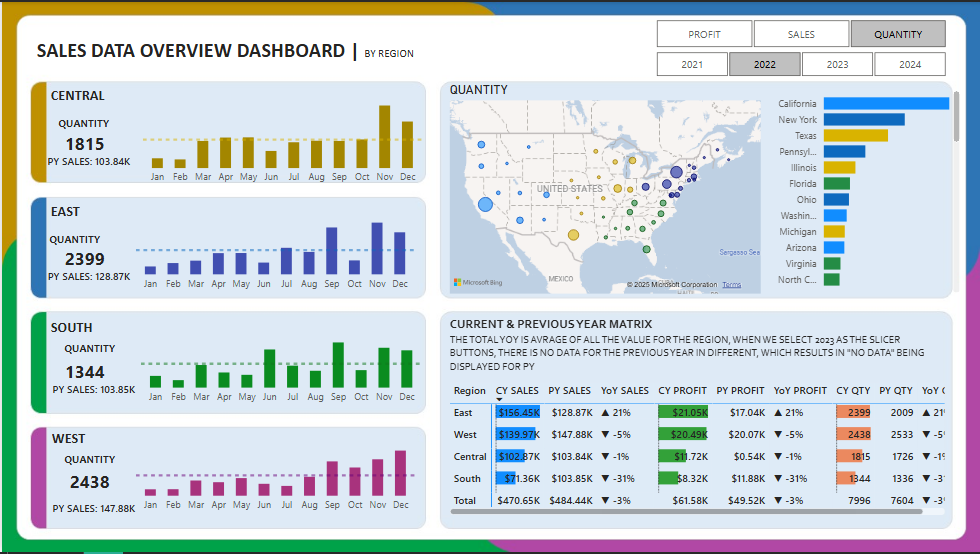

The dashboard page shown, as its layout file describes it:
{"tool":"powerbi","page":{"name":"Page 1","canvas":[1280,720],"ordinal":0},"visuals":[{"type":"slicer","fields":{"Values":["SELECT METRIC.SELECT METRIC"]},"box":[831.5,16.8,428.3,48.7],"z":0},{"type":"card","fields":{"Values":["Sales Data.TOTAL PROFIT"]},"box":[47,162.9,122.6,47],"z":1000},{"type":"textbox","box":[58.8,104.1,95.7,35.3],"z":2000},{"type":"slicer","fields":{"Values":["Calender Table.YEAR"]},"box":[831.5,58.8,428.3,45.4],"z":3000},{"type":"card","fields":{"Values":["Sales Data.PY KPI SALES"]},"box":[47,186.5,134.4,50.4],"z":4000},{"type":"card","fields":{"Values":["Sales Data.DYNAMIC TITLE"]},"box":[58.8,139.4,95.7,40.3],"z":5000},{"type":"card","fields":{"Values":["Sales Data.TOTAL PROFIT"]},"box":[47,312.4,122.6,47],"z":6000},{"type":"card","fields":{"Values":["Sales Data.DYNAMIC TITLE"]},"box":[47,292.3,95.7,40.3],"z":7000},{"type":"card","fields":{"Values":["Sales Data.PY KPI SALES"]},"box":[47,336,134.4,50.4],"z":8000},{"type":"card","fields":{"Values":["Sales Data.TOTAL PROFIT"]},"box":[47,460.3,122.6,47],"z":9000},{"type":"card","fields":{"Values":["Sales Data.DYNAMIC TITLE"]},"box":[67.2,435.1,95.7,40.3],"z":10000},{"type":"card","fields":{"Values":["Sales Data.PY KPI SALES"]},"box":[53.8,483.8,134.4,50.4],"z":11000},{"type":"card","fields":{"Values":["Sales Data.TOTAL PROFIT"]},"box":[53.8,604.7,122.6,47],"z":12000},{"type":"card","fields":{"Values":["Sales Data.DYNAMIC TITLE"]},"box":[67.2,579.5,95.7,40.3],"z":13000},{"type":"card","fields":{"Values":["Sales Data.PY KPI SALES"]},"box":[53.8,640,134.4,50.4],"z":14000},{"type":"clusteredColumnChart","fields":{"Category":["Calender Table.MONTH"],"Y":["Sales Data.TOTAL PROFIT"]},"box":[169.7,246.9,376.3,139.4],"z":15000},{"type":"clusteredColumnChart","fields":{"Category":["Calender Table.MONTH"],"Y":["Sales Data.TOTAL PROFIT"]},"box":[179.7,104.1,376.3,142.8],"z":16000},{"type":"clusteredColumnChart","fields":{"Category":["Calender Table.MONTH"],"Y":["Sales Data.TOTAL PROFIT"]},"box":[176.4,406.5,378,127.7],"z":17000},{"type":"clusteredColumnChart","fields":{"Category":["Calender Table.MONTH"],"Y":["Sales Data.TOTAL PROFIT"]},"box":[169.7,554.3,376.3,122.6],"z":18000},{"type":"map","fields":{"Size":["Sales Data.TOTAL PROFIT"],"Category":["Sales Data.State/Province"],"Series":["Sales Data.Region"]},"box":[581.2,104.1,416.6,282.2],"z":19000},{"type":"barChart","fields":{"Y":["Sales Data.TOTAL PROFIT"],"Category":["Sales Data.State/Province"],"Series":["Sales Data.Region"]},"box":[998,104,261,282],"z":20000},{"type":"pivotTable","fields":{"Values":["Sales Data.CY SALES","Sales Data.PY SALES","Sales Data.YoY SALES","Sales Data.CY PROFIT","Sales Data.PY PROFIT","Sales Data.YoY PROFIT","Sales Data.CY QUANTITY","Sales Data.PY QUANTITY","Sales Data.YoY QTY"],"Rows":["Sales Data.Region"]},"box":[581.2,493.9,658.5,183.1],"z":21000},{"type":"textbox","box":[40.3,42,515.7,58.8],"z":22000},{"type":"textbox","box":[581.2,406.5,299,38.6],"z":23000},{"type":"textbox","box":[581.2,426.7,658.5,67.2],"z":24000},{"type":"textbox","box":[58.8,257,95.7,35.3],"z":25000},{"type":"textbox","box":[58.8,408.2,95.7,35.3],"z":26000},{"type":"textbox","box":[60.5,554.3,95.7,35.3],"z":27000}]}

Visuals, with their boxes in screenshot pixels (x1, y1, x2, y2), scaled from the page's 1280x720 canvas onto the 980x554 screenshot:
slicer - SELECT METRIC.SELECT METRIC: detection(637, 13, 965, 50)
card - Sales Data.TOTAL PROFIT: detection(36, 125, 130, 162)
textbox: detection(45, 80, 118, 107)
slicer - Calender Table.YEAR: detection(637, 45, 965, 80)
card - Sales Data.PY KPI SALES: detection(36, 144, 139, 182)
card - Sales Data.DYNAMIC TITLE: detection(45, 107, 118, 138)
card - Sales Data.TOTAL PROFIT: detection(36, 240, 130, 277)
card - Sales Data.DYNAMIC TITLE: detection(36, 225, 109, 256)
card - Sales Data.PY KPI SALES: detection(36, 259, 139, 297)
card - Sales Data.TOTAL PROFIT: detection(36, 354, 130, 390)
card - Sales Data.DYNAMIC TITLE: detection(51, 335, 125, 366)
card - Sales Data.PY KPI SALES: detection(41, 372, 144, 411)
card - Sales Data.TOTAL PROFIT: detection(41, 465, 135, 501)
card - Sales Data.DYNAMIC TITLE: detection(51, 446, 125, 477)
card - Sales Data.PY KPI SALES: detection(41, 492, 144, 531)
clusteredColumnChart - Calender Table.MONTH x Sales Data.TOTAL PROFIT: detection(130, 190, 418, 297)
clusteredColumnChart - Calender Table.MONTH x Sales Data.TOTAL PROFIT: detection(138, 80, 426, 190)
clusteredColumnChart - Calender Table.MONTH x Sales Data.TOTAL PROFIT: detection(135, 313, 424, 411)
clusteredColumnChart - Calender Table.MONTH x Sales Data.TOTAL PROFIT: detection(130, 427, 418, 521)
map - Sales Data.TOTAL PROFIT x Sales Data.State/Province: detection(445, 80, 764, 297)
barChart - Sales Data.TOTAL PROFIT x Sales Data.State/Province: detection(764, 80, 964, 297)
pivotTable - Sales Data.CY SALES x Sales Data.PY SALES: detection(445, 380, 949, 521)
textbox: detection(31, 32, 426, 78)
textbox: detection(445, 313, 674, 342)
textbox: detection(445, 328, 949, 380)
textbox: detection(45, 198, 118, 225)
textbox: detection(45, 314, 118, 341)
textbox: detection(46, 427, 120, 454)
